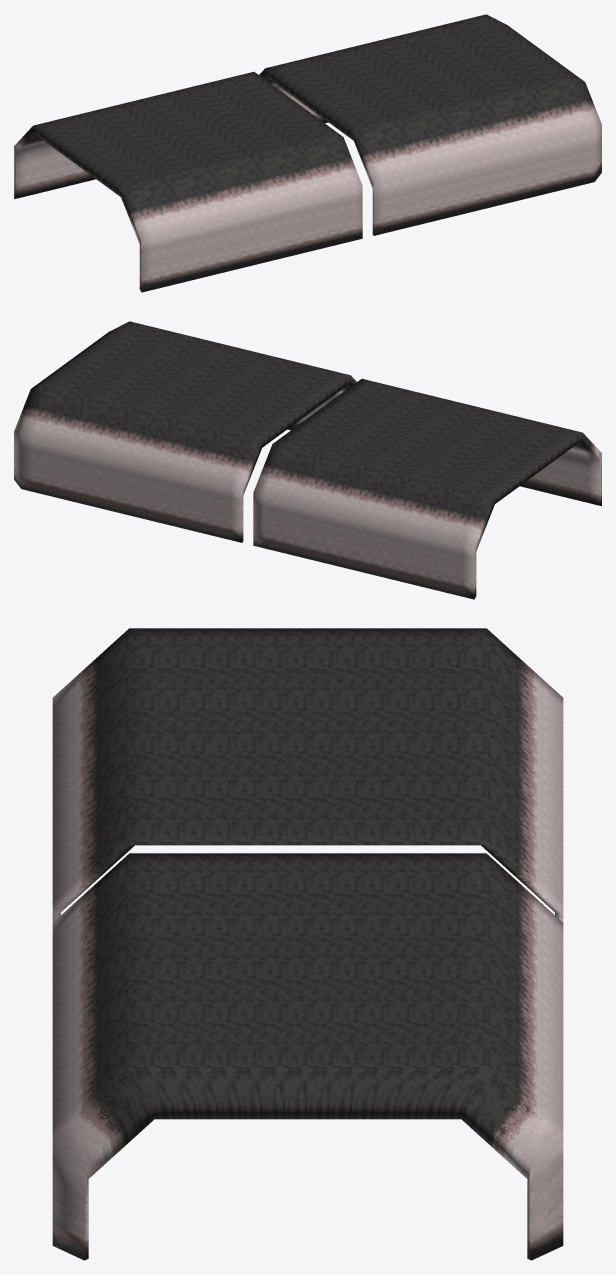
The model's file is TI2 ASSETS (ComColorAtributeMAt).fbx_T_neo.fbx.
3 views of the same model, one above another, from view 1: azimuth 30°, elevation 25°; view 2: azimuth 150°, elevation 25°; view 3: azimuth 270°, elevation 25° (orthographic). The views are drawn at different scales.
Visible parts, largest first — view 1: Túneo; view 2: Túneo; view 3: Túneo.
Boxes of the visible parts, x1,y1,x2,y2 form: Túneo: (14, 14, 601, 292); Túneo: (14, 321, 601, 599); Túneo: (52, 628, 563, 1260).
Bounding box in the file's own units: 4238 × 764 × 2000.
